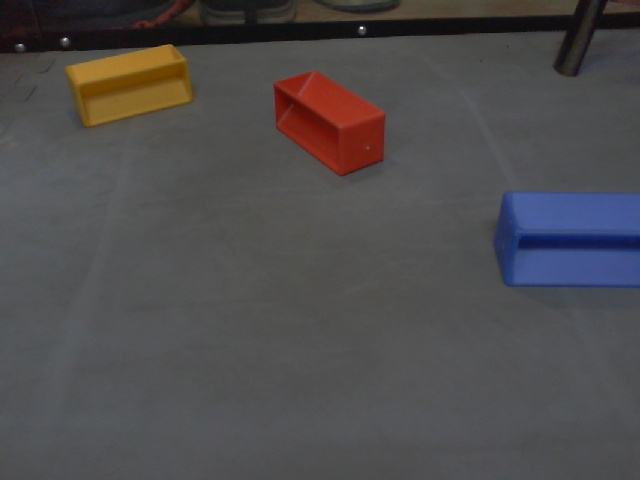BlueSample: (494, 190, 640, 291)
RedSample: (272, 70, 386, 180)
YellowSample: (59, 40, 194, 130)
